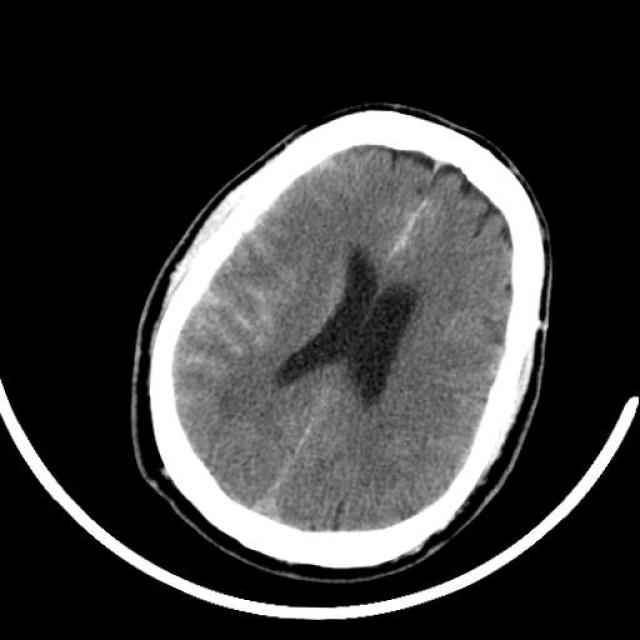Subarachnoid: (158, 231, 312, 399)
Subdural: (372, 188, 442, 263)
